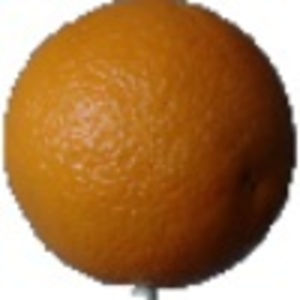laranja: (3, 2, 295, 289)
